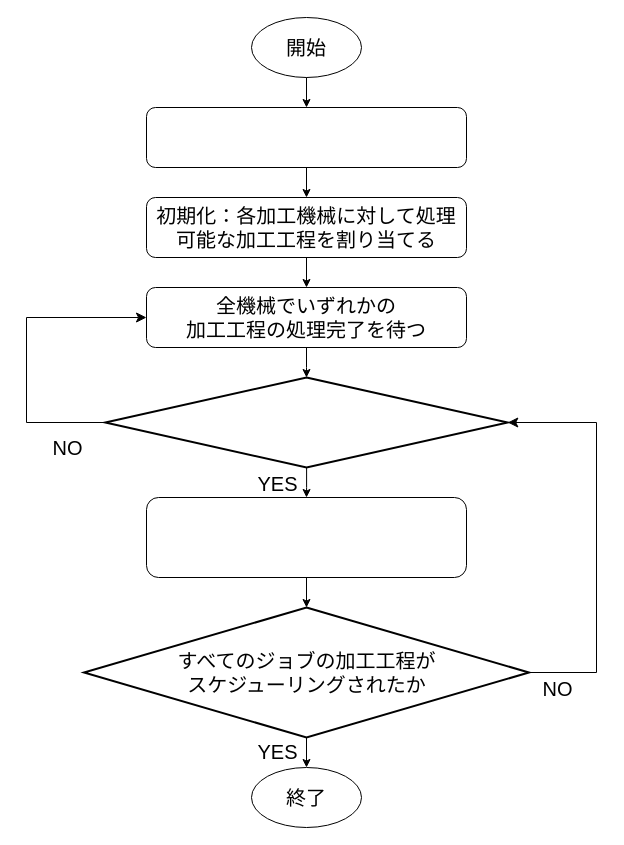
The diagram is 624 pixels wide and 845 high, and some of its shapes have lost their labels. The centre of each missing label's shape, as x and y in pixels:
"処理可能な加工工程の集合から待機中の加工機械に新たな加工工程を割り当てる" goes at point 306,537.
"処理可能な加工工程は存在するか" goes at point 306,422.
"各製品の加工工程、割り当て機械及び加工時間を決める" goes at point 306,137.
